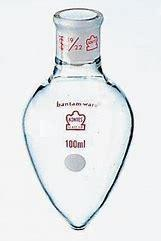Pear shaped flask: (13, 3, 135, 230)
